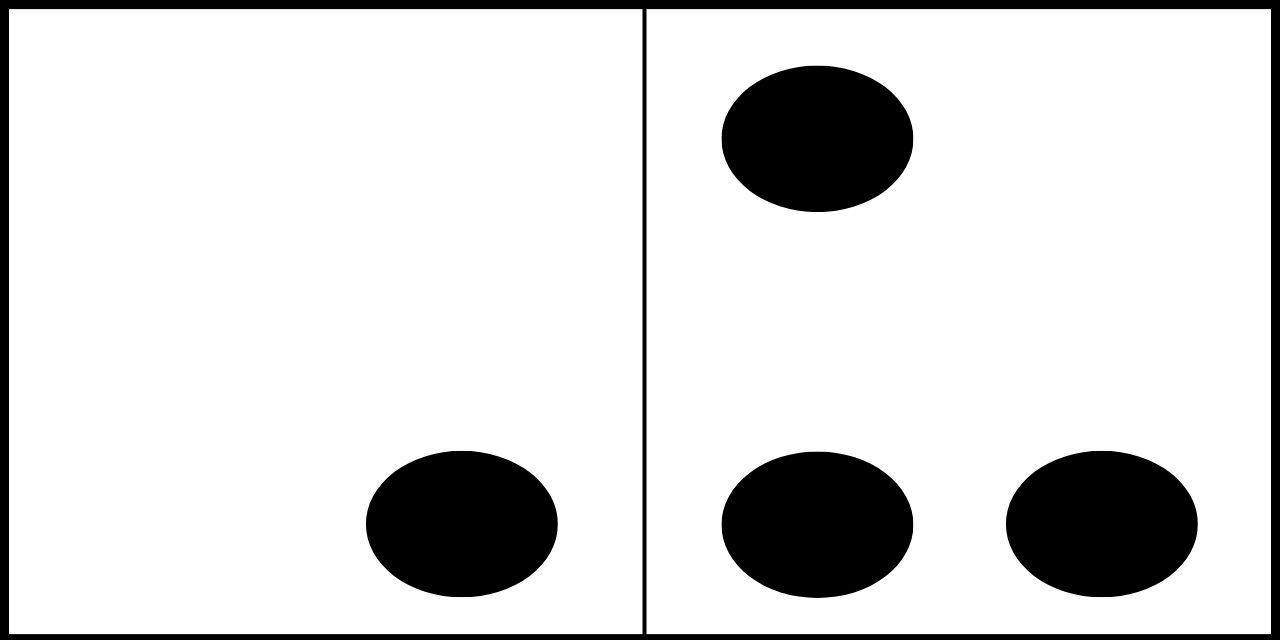U: (720, 65, 1197, 597)
capital: (103, 63, 560, 596)
